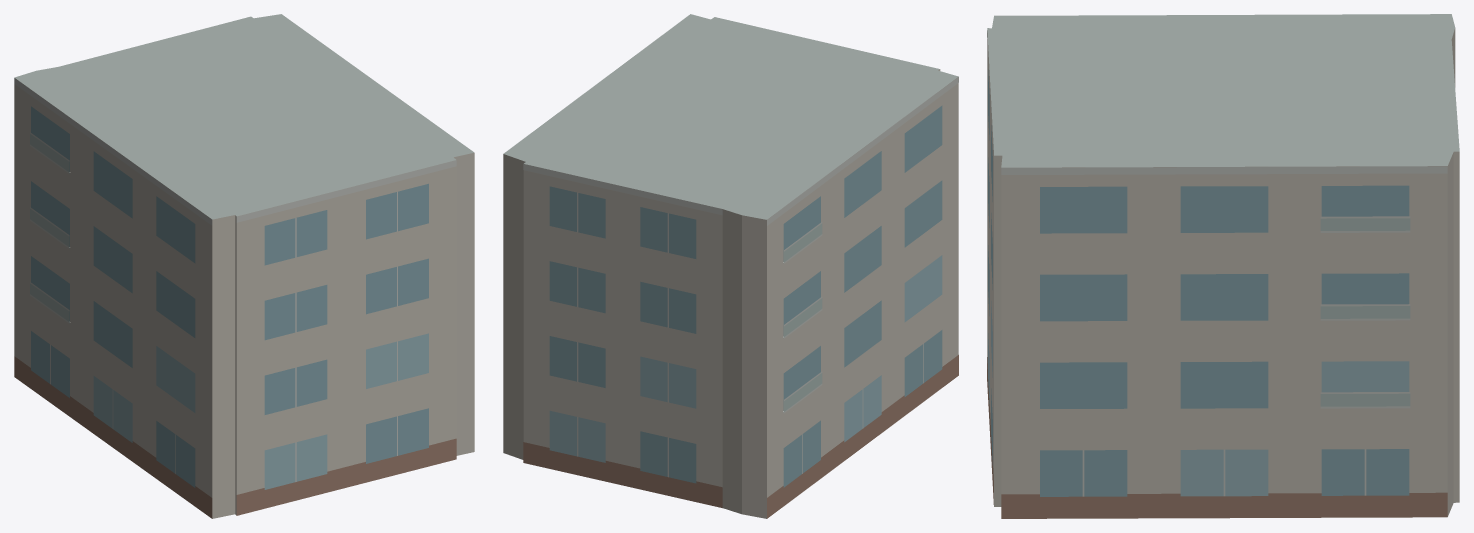
The model's file is survey-upis-32885160.glb.
3 views of the same model, side by side, from view 1: azimuth 30°, elevation 25°; view 2: azimuth 150°, elevation 25°; view 3: azimuth 270°, elevation 25° (orthographic). The views are drawn at different scales.
Parts seen in each view (by area): view 1: survey-upis-32885160.tmp; view 2: survey-upis-32885160.tmp; view 3: survey-upis-32885160.tmp.
Part boxes in pixels (x1,y1,x2,y2): survey-upis-32885160.tmp: (14,14,474,518); survey-upis-32885160.tmp: (503,14,958,518); survey-upis-32885160.tmp: (987,14,1459,518).
Bounding box in the file's own units: 10.82 × 11.5 × 14.04.
